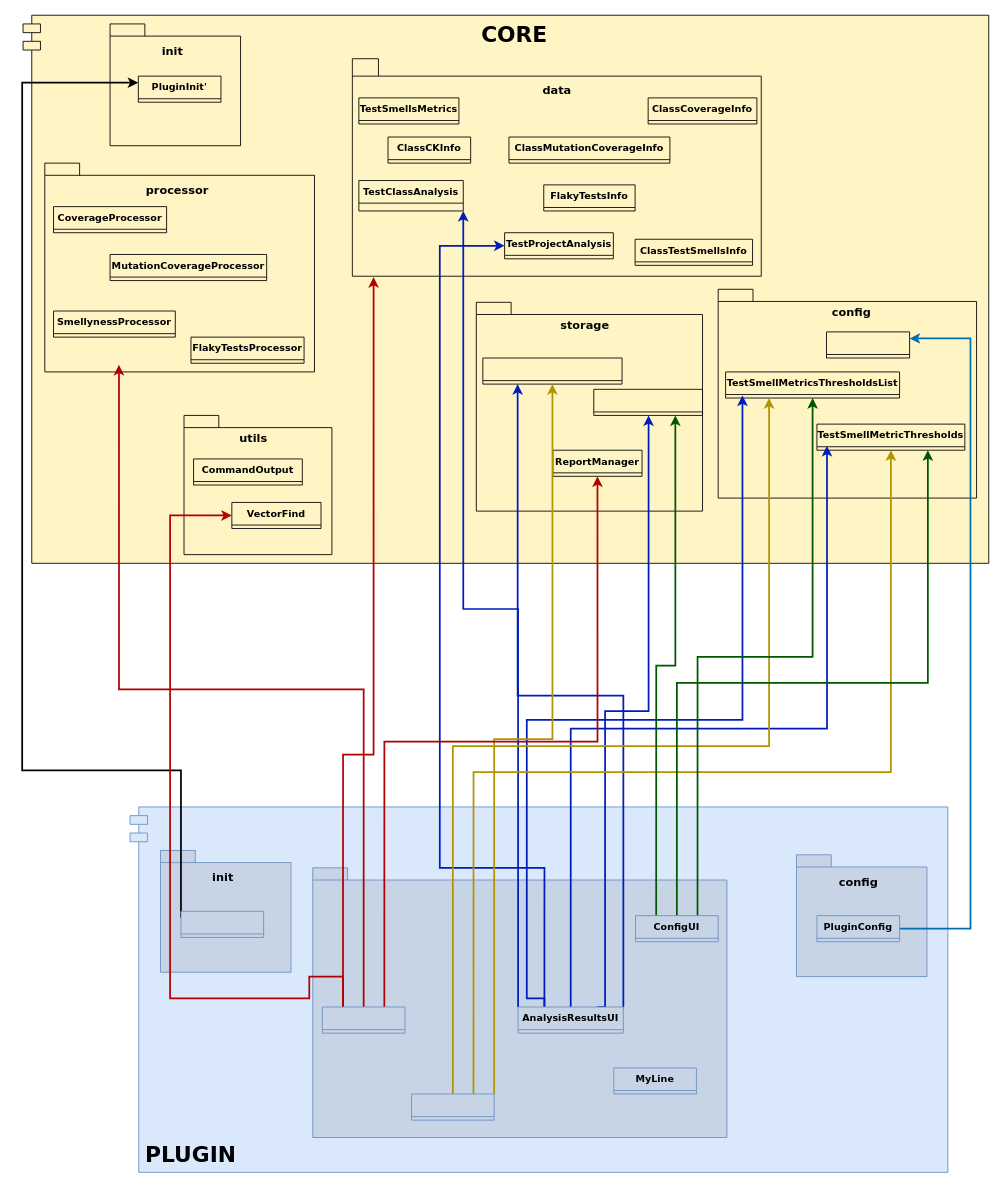
The diagram is 1004 pixels wide and 1188 high, and some of its shapes have lost their labels. Each missing label, with the centre of its shape:
AnalysisHistoryManager: (x=552, y=370)
ConfigFileManager: (x=648, y=401)
gui: (x=408, y=893)
MetricsChart: (x=452, y=1106)
PluginConfig': (x=868, y=344)
PluginInit: (x=222, y=923)
PluginInitGUI: (x=363, y=1019)
